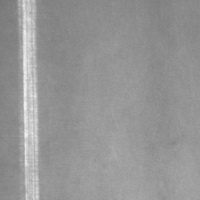scratches: (16, 1, 44, 200)
